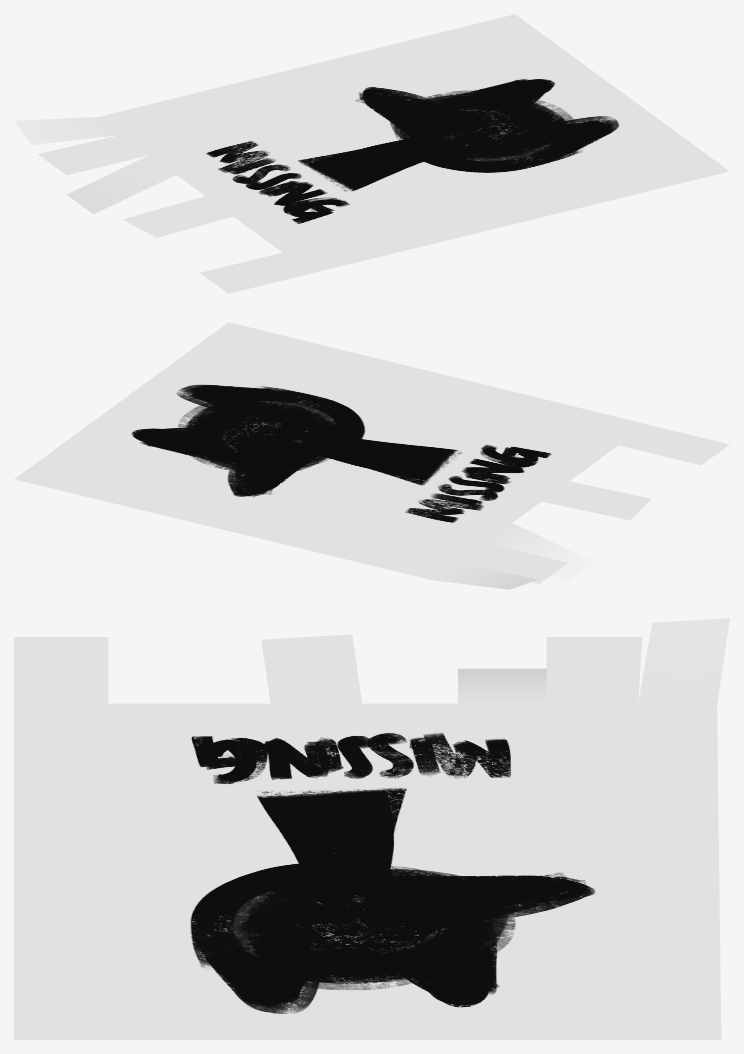
Rendered from Flyer3_geo.fbx.
3 renders of one model, top to bottom at view 1: azimuth 30°, elevation 25°; view 2: azimuth 150°, elevation 25°; view 3: azimuth 270°, elevation 25°, orthographic. The views are drawn at different scales.
Parts seen in each view (by area): view 1: Flyer4_GEO; view 2: Flyer4_GEO; view 3: Flyer4_GEO.
Part boxes in pixels (<box>): Flyer4_GEO: <box>14,14,729,293</box>; Flyer4_GEO: <box>14,322,729,589</box>; Flyer4_GEO: <box>14,618,729,1039</box>.
Size of the model in its own units: 1.59 by 0.0976 by 1.19.
